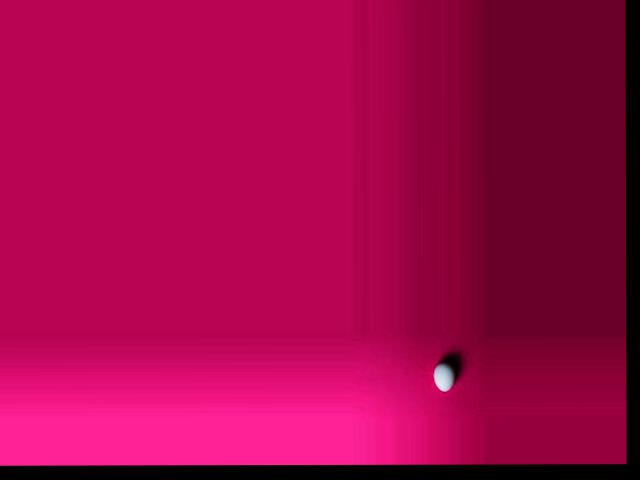egg: (432, 361, 454, 391)
